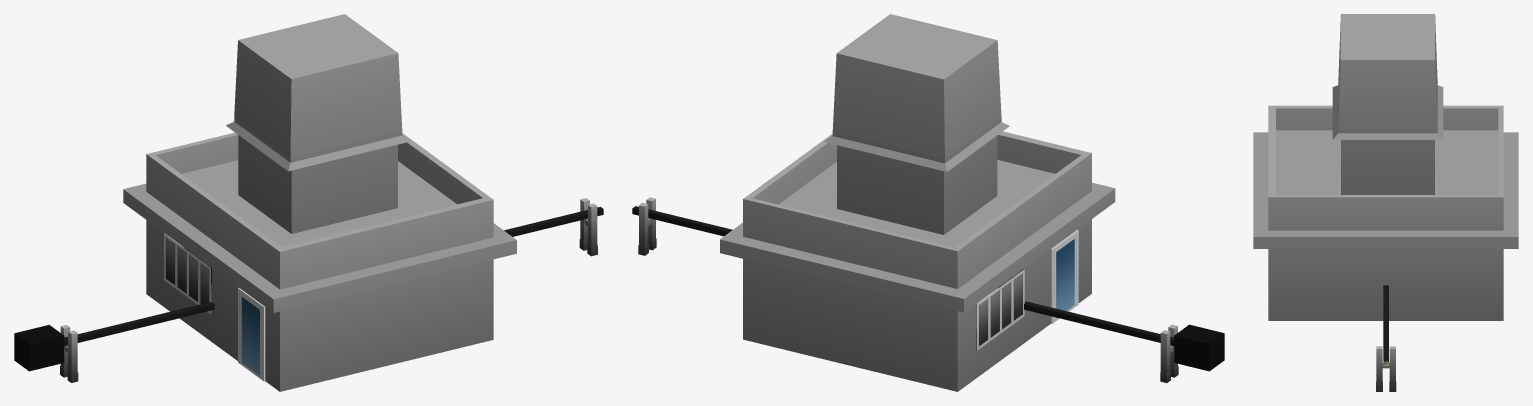
File: PosSatpam.fbx
3 views of the same model, side by side, from view 1: azimuth 30°, elevation 25°; view 2: azimuth 150°, elevation 25°; view 3: azimuth 270°, elevation 25° (orthographic). The views are drawn at different scales.
Parts seen in each view (by area): view 1: PlangPematas3_LOD0, PlangPematas2_LOD0, PlangPematas1_LOD0; view 2: PlangPematas3_LOD0, PlangPematas2_LOD0, PlangPematas1_LOD0; view 3: PlangPematas3_LOD0, PlangPematas2_LOD0, PlangPematas1_LOD0.
Boxes of the visible parts, x1,y1,x2,y2 form: PlangPematas3_LOD0: [123, 132, 516, 391]; PlangPematas2_LOD0: [226, 14, 410, 233]; PlangPematas1_LOD0: [14, 198, 603, 382]; PlangPematas3_LOD0: [720, 131, 1115, 391]; PlangPematas2_LOD0: [824, 14, 1009, 234]; PlangPematas1_LOD0: [632, 197, 1224, 382]; PlangPematas3_LOD0: [1253, 105, 1518, 320]; PlangPematas2_LOD0: [1332, 14, 1443, 194]; PlangPematas1_LOD0: [1376, 285, 1396, 391].
Size of what is drawn, in the model's own units: 2390 by 1061 by 1074.
